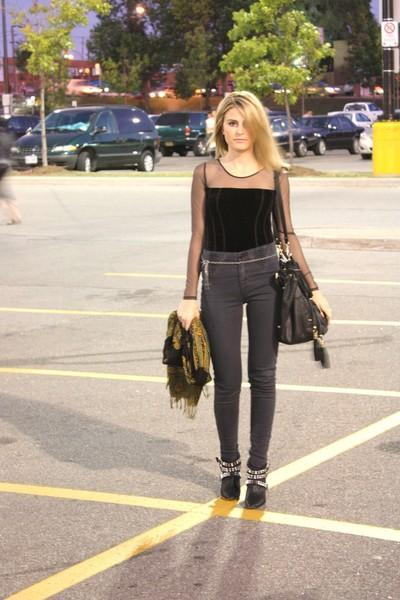bag: (272, 256, 328, 367)
jacket: (162, 311, 213, 421)
pants: (199, 241, 290, 467)
shirt: (183, 154, 311, 299)
shoe: (216, 444, 269, 508)
